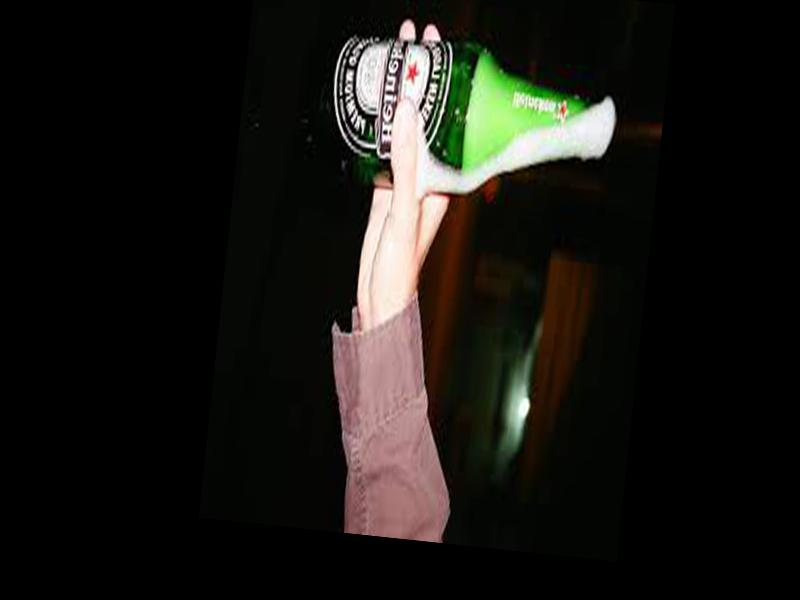Beer: (316, 23, 608, 210)
